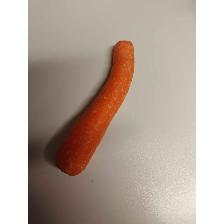Karotte: (54, 39, 136, 177)
